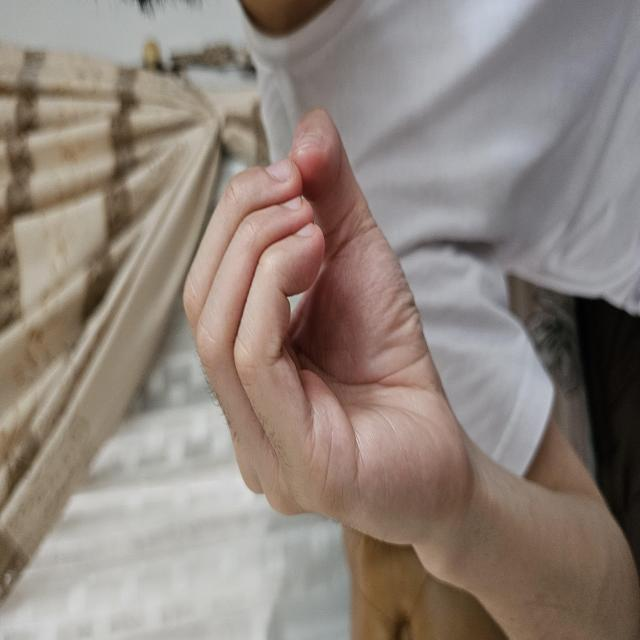O: (100, 139, 540, 434)
